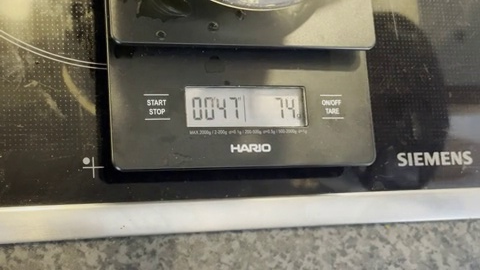display: (184, 86, 303, 127)
